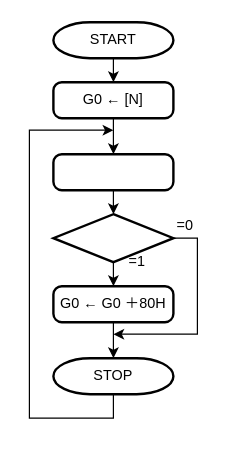
This 230x449 diagram has some shape labels left out. Here are the shapes that lost their labels. From the top down, the box of each, then its label:
(52, 152, 174, 191): G0 ← G0 >>> 1
(52, 212, 174, 263): Cフラグ
